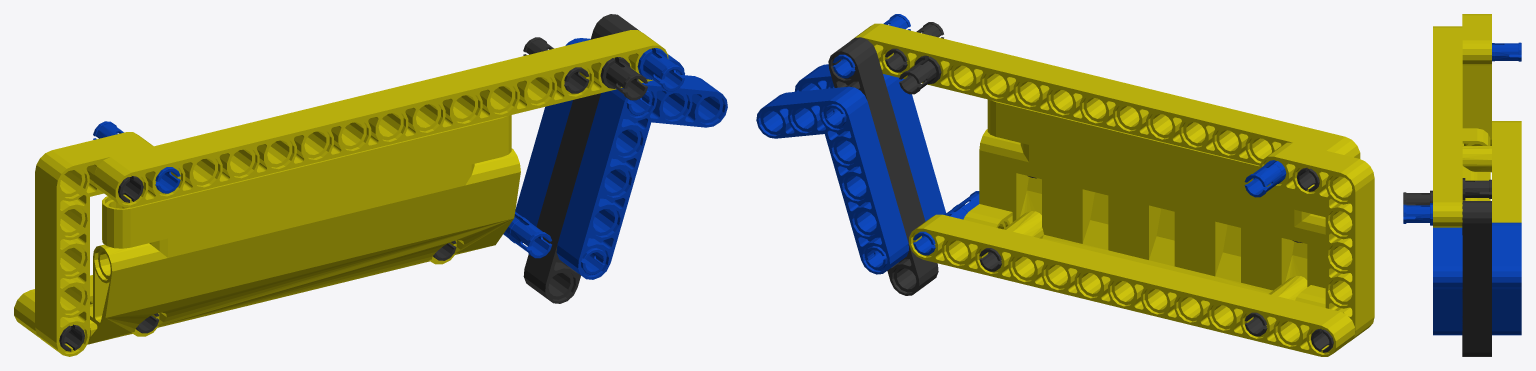
Rendered from Cabin1.fbx.
The picture shows the model from 3 angles, left to right: view 1: azimuth 30°, elevation 25°; view 2: azimuth 150°, elevation 25°; view 3: azimuth 270°, elevation 25°; orthographic projection. The views are drawn at different scales.
Parts seen in each view (by area): view 1: Cabin1; view 2: Cabin1; view 3: Cabin1.
Boxes of the visible parts, box(x1,y1,x2,y2) form: Cabin1: box(14, 14, 727, 356); Cabin1: box(756, 14, 1374, 356); Cabin1: box(1403, 14, 1521, 356).
Bounding box in the file's own units: 13.99 × 5.28 × 3.2.
